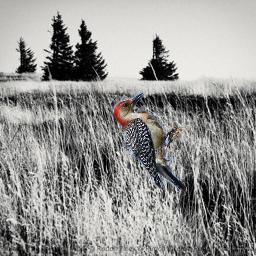Woodpecker: (112, 92, 188, 195)
